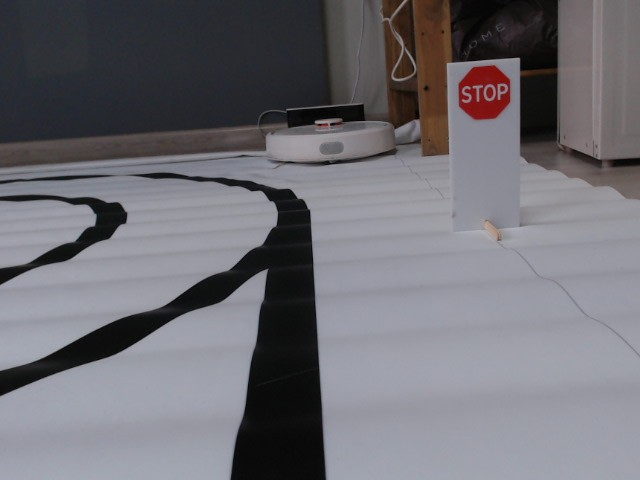Stop: (458, 65, 511, 121)
